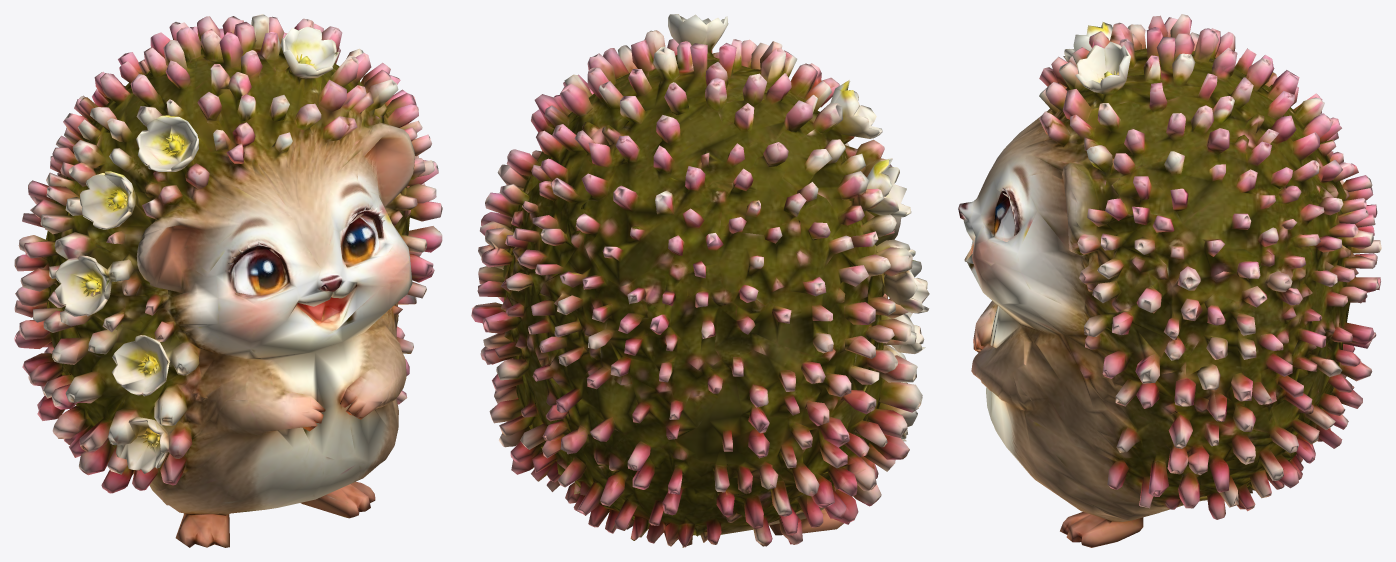
The model's file is blossomhog.glb.
The picture shows the model from 3 angles, left to right: view 1: azimuth 30°, elevation 25°; view 2: azimuth 150°, elevation 25°; view 3: azimuth 270°, elevation 25°; orthographic projection. The views are drawn at different scales.
Visible parts, largest first — view 1: node_0; view 2: node_0; view 3: node_0.
Boxes of the visible parts, x1=… form: node_0: x1=14, y1=14, x2=442, y2=547; node_0: x1=471, y1=14, x2=929, y2=547; node_0: x1=958, y1=14, x2=1381, y2=547.
Size of the model in its own units: 0.8546 by 1 by 0.8097.
1 material, 1 textured.
